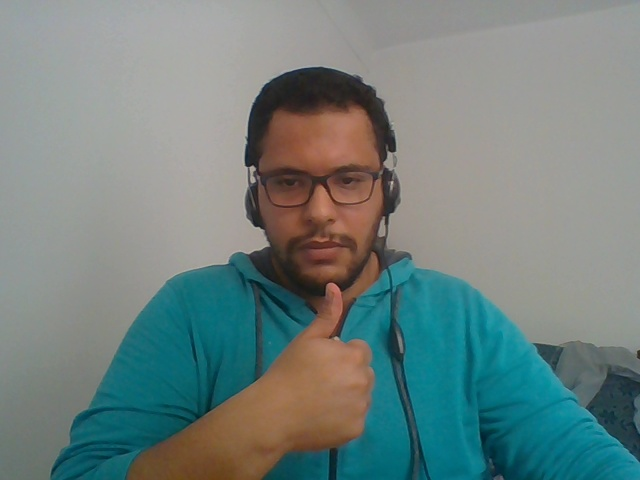ok: (248, 263, 395, 473)
